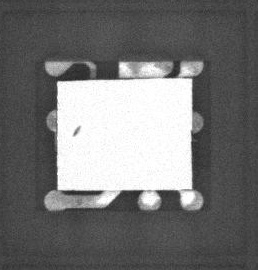DIE_INK: (68, 130, 77, 142)
